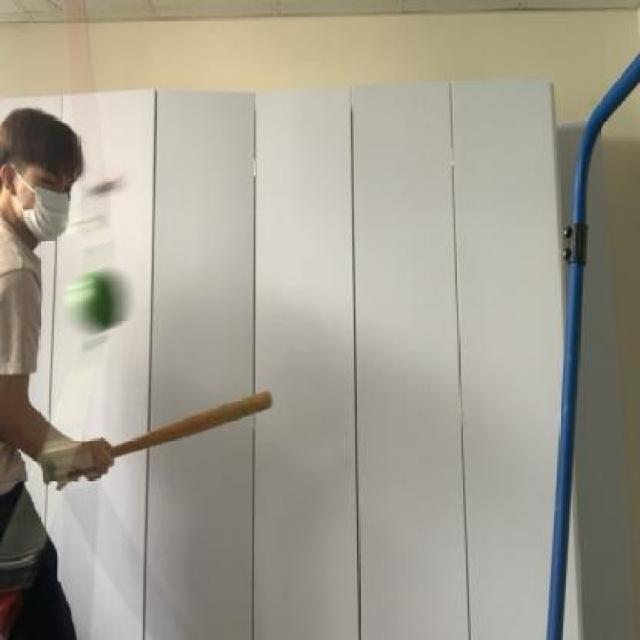baseball: (64, 260, 134, 349)
